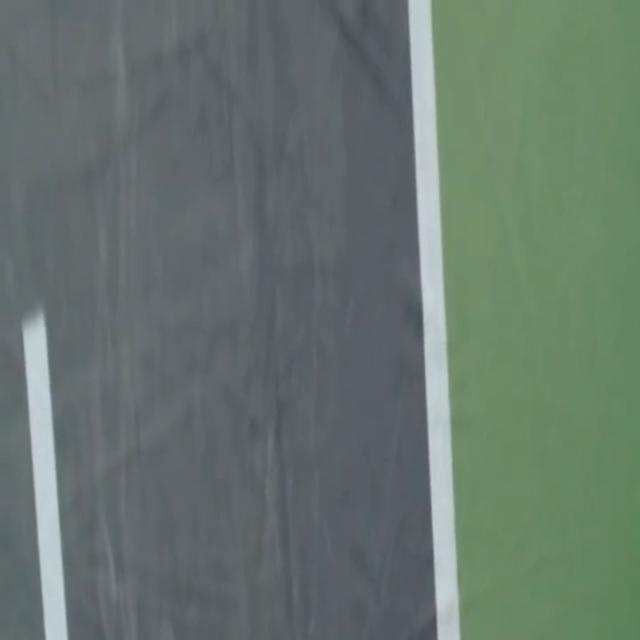center: (22, 311, 68, 639)
right: (408, 0, 460, 639)
